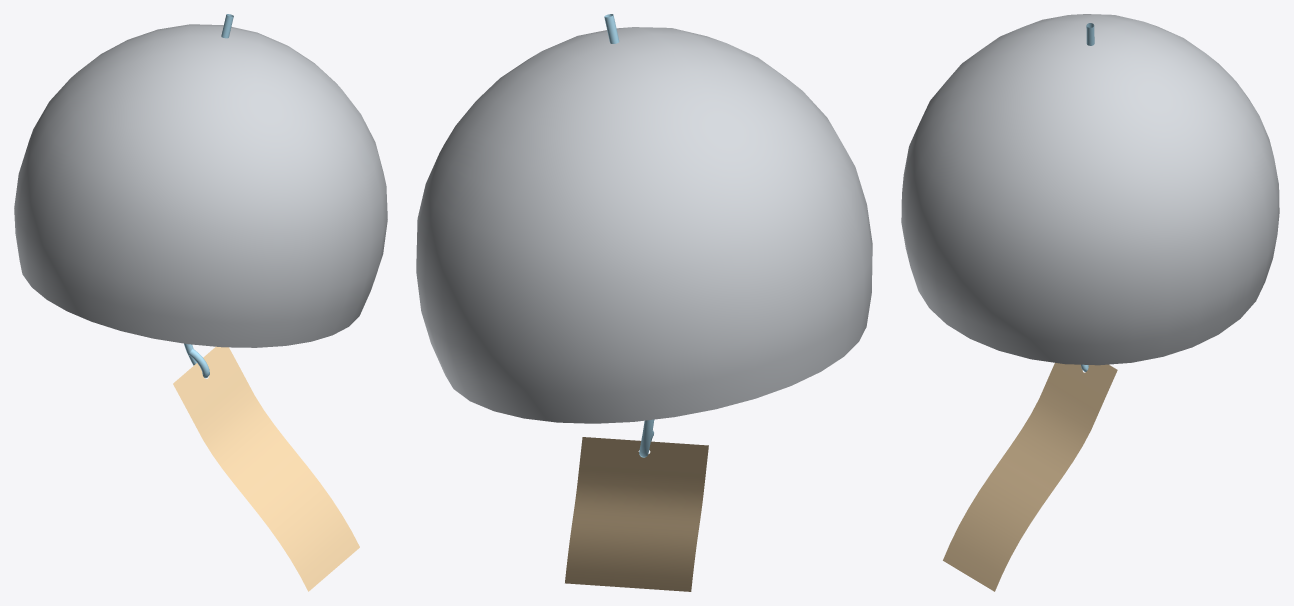
File: wind_chime.glb
The picture shows the model from 3 angles, left to right: view 1: azimuth 30°, elevation 25°; view 2: azimuth 150°, elevation 25°; view 3: azimuth 270°, elevation 25°; orthographic projection. The views are drawn at different scales.
Visible parts, largest first — view 1: Cube.900, Circle.2514, BezierCurve.002; view 2: Cube.900, Circle.2514, BezierCurve.002; view 3: Cube.900, Circle.2514.
Part boxes in pixels (x1,y1,x2,y2): Cube.900: [14, 24, 387, 347]; Circle.2514: [173, 346, 359, 591]; BezierCurve.002: [184, 14, 233, 378]; Cube.900: [416, 27, 872, 423]; Circle.2514: [565, 437, 708, 591]; BezierCurve.002: [604, 14, 654, 457]; Cube.900: [901, 14, 1279, 365]; Circle.2514: [943, 363, 1117, 591].
Size of the model in its own units: 1.43 by 2.23 by 1.43.
Materials: 2 (1 with a texture image).
